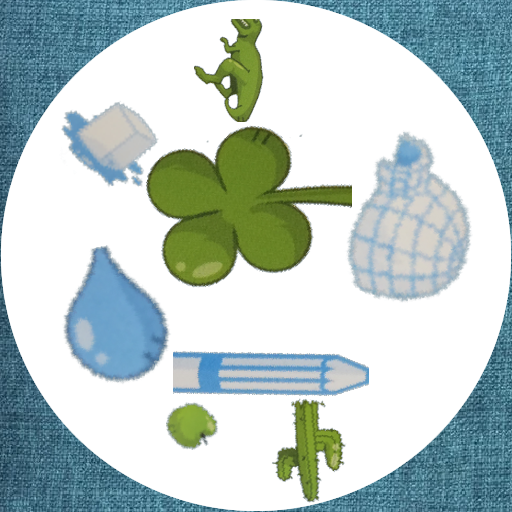apple_icon: (166, 397, 219, 450)
cactus_icon: (257, 394, 366, 503)
cloverleaf_icon: (136, 115, 352, 331)
cube_icon: (59, 81, 172, 194)
dino_icon: (194, 19, 297, 122)
igloo_icon: (319, 130, 492, 303)
pen_icon: (173, 277, 369, 473)
raindrop_icon: (45, 245, 185, 385)
